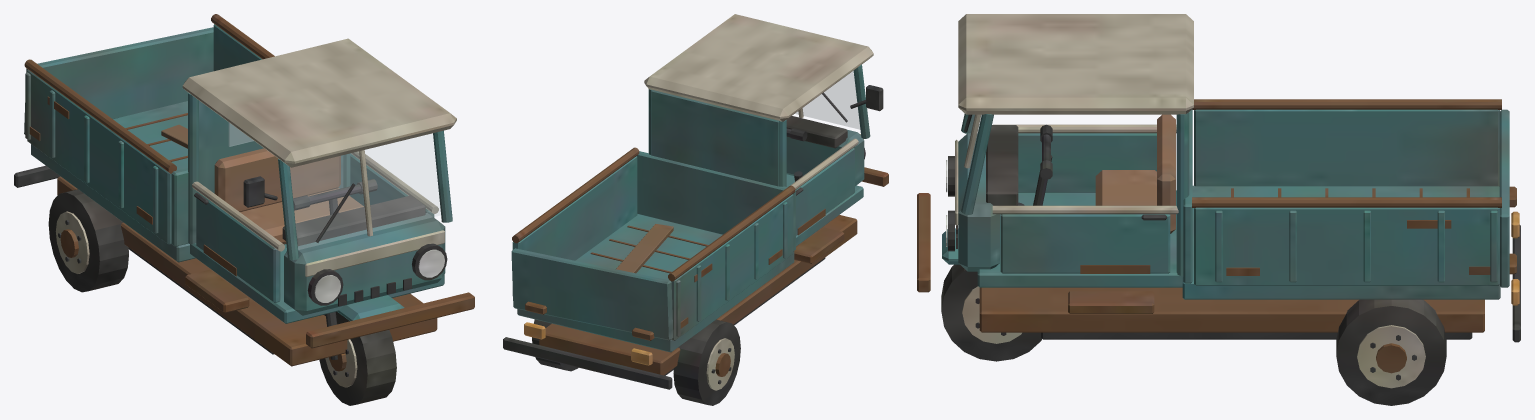
Rendered from CV09_mini_goods_truck_tempo.glb.
The picture shows the model from 3 angles, left to right: view 1: azimuth 30°, elevation 25°; view 2: azimuth 150°, elevation 25°; view 3: azimuth 270°, elevation 25°; orthographic projection. The views are drawn at different scales.
Visible parts, largest first — view 1: Ladder chassis; view 2: Ladder chassis; view 3: Ladder chassis.
Part boxes in pixels (x1,y1,x2,y2): Ladder chassis: (14, 14, 474, 405); Ladder chassis: (503, 14, 888, 405); Ladder chassis: (917, 14, 1520, 405).
Bounding box in the file's own units: 2.01 × 2.45 × 4.5.
Materials: 10 (9 with a texture image).
